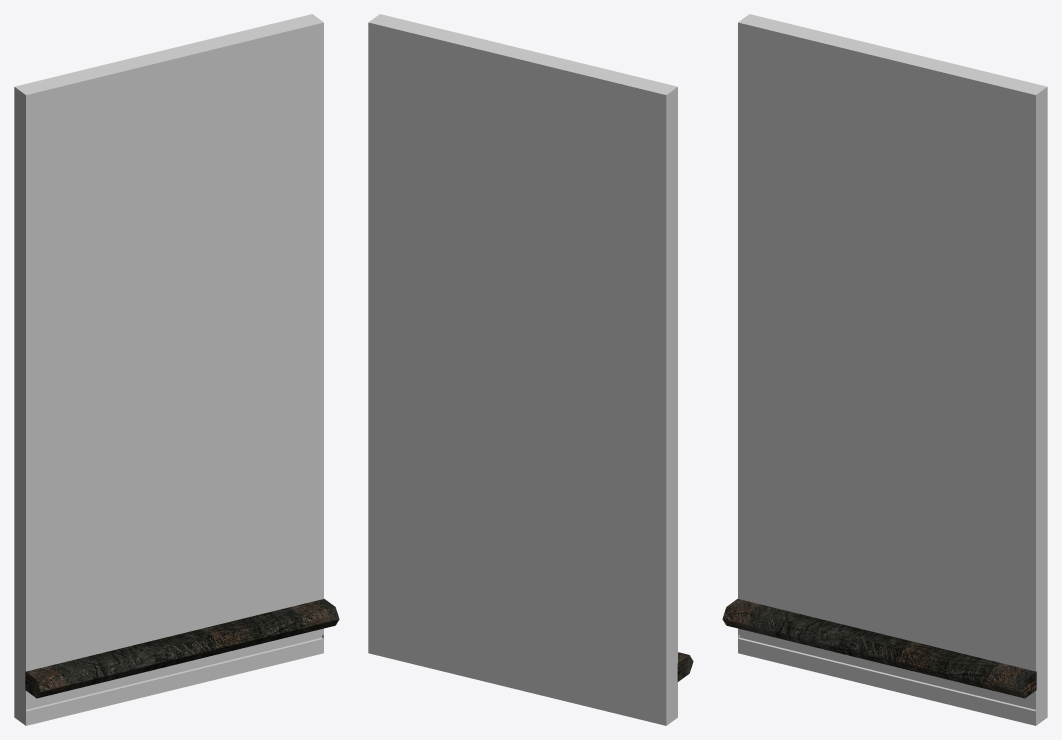
File: 7_C_Wall.fbx
3 views of the same model, side by side, from view 1: azimuth 30°, elevation 25°; view 2: azimuth 150°, elevation 25°; view 3: azimuth 330°, elevation 25° (orthographic).
Visible parts, largest first — view 1: C_Wall.007; view 2: C_Wall.007; view 3: C_Wall.007.
Part boxes in pixels (x1=…): C_Wall.007: x1=14, y1=14, x2=339, y2=725; C_Wall.007: x1=368, y1=14, x2=693, y2=725; C_Wall.007: x1=722, y1=14, x2=1047, y2=725.
Size of the model in its own units: 149 by 300 by 23.05.
